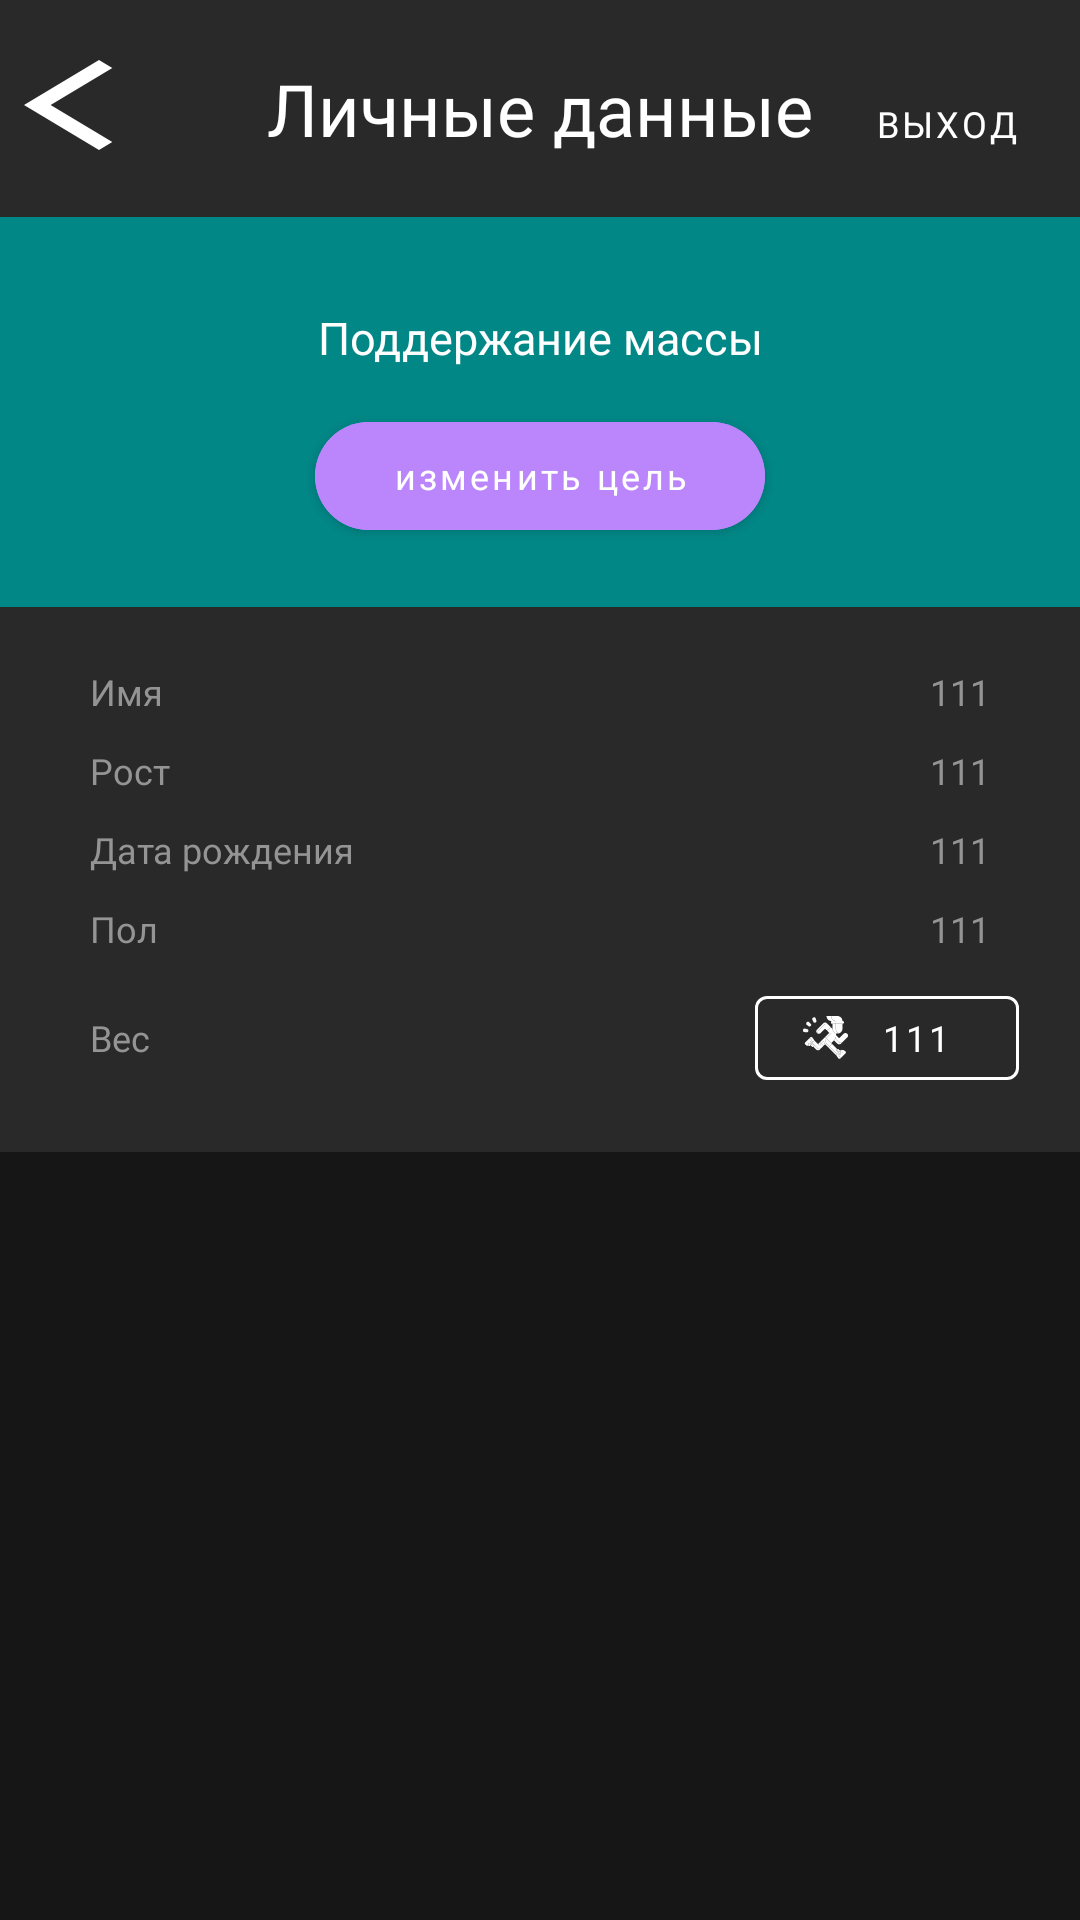

Icon click points for this 1080x1920 phone screenshot, format [x,y]:
back: [68,105]
